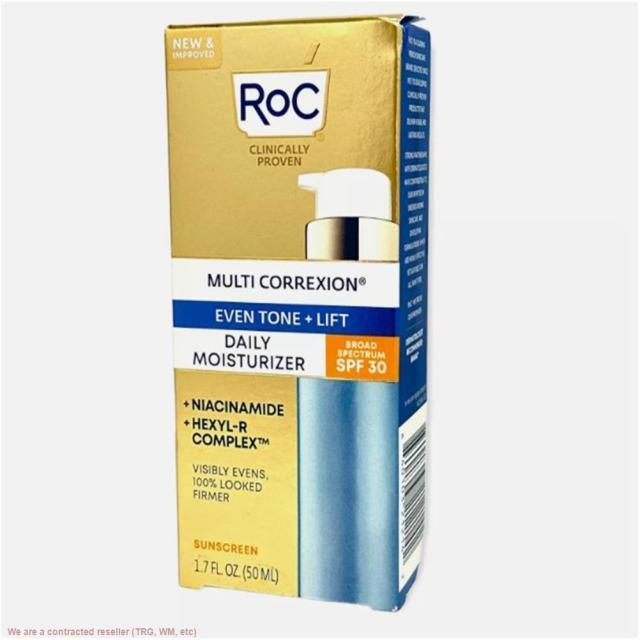lotion-moisture: (166, 31, 401, 602)
